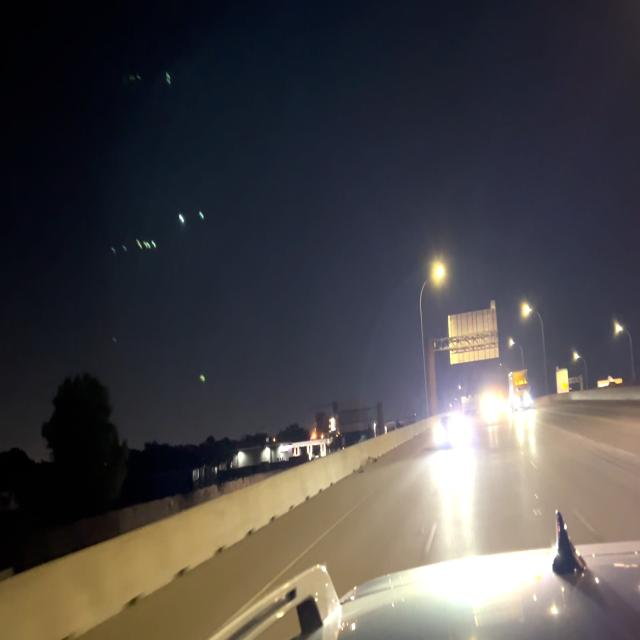back-of-sign: (448, 297, 500, 367), (338, 395, 373, 435)
